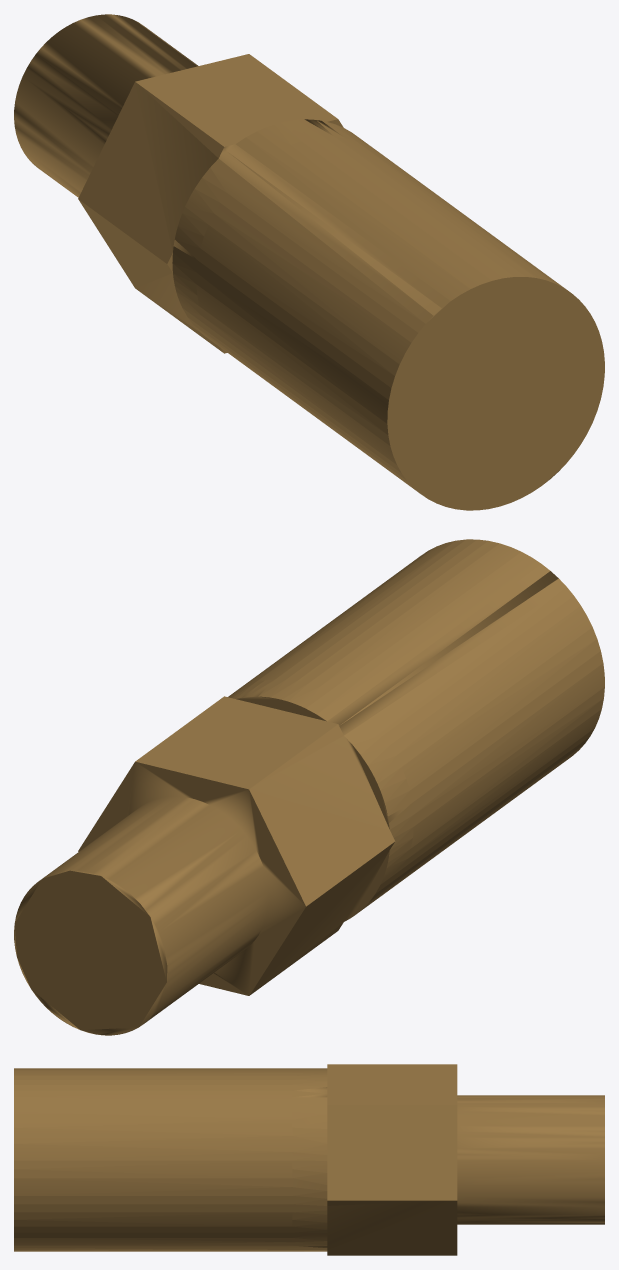
The model's file is relief-valve.glb.
The picture shows the model from 3 angles, top to bottom: view 1: azimuth 30°, elevation 25°; view 2: azimuth 150°, elevation 25°; view 3: azimuth 270°, elevation 25°; orthographic projection. The views are drawn at different scales.
Parts seen in each view (by area): view 1: relief-valve saved shape; view 2: relief-valve saved shape; view 3: relief-valve saved shape.
Part boxes in pixels (x1,y1,x2,y2): relief-valve saved shape: (14, 14, 604, 510); relief-valve saved shape: (14, 539, 604, 1035); relief-valve saved shape: (14, 1064, 604, 1255).
Size of the model in its own units: 16.5 by 15.75 by 50.8.
